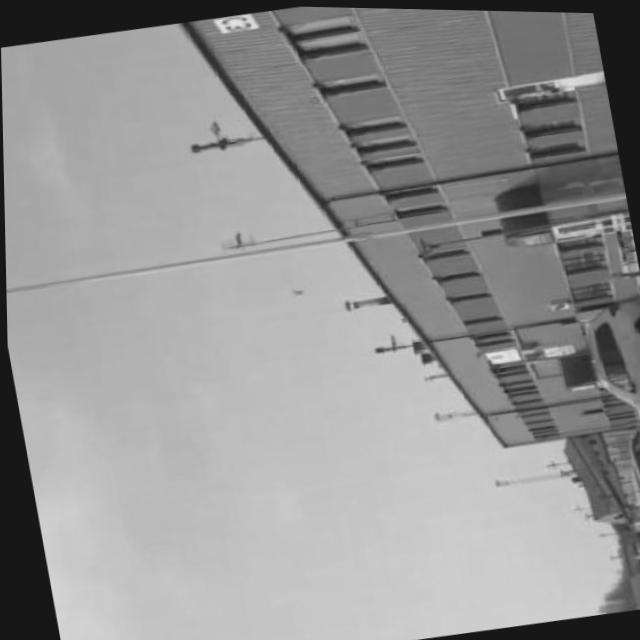helikopter: (281, 280, 312, 299)
